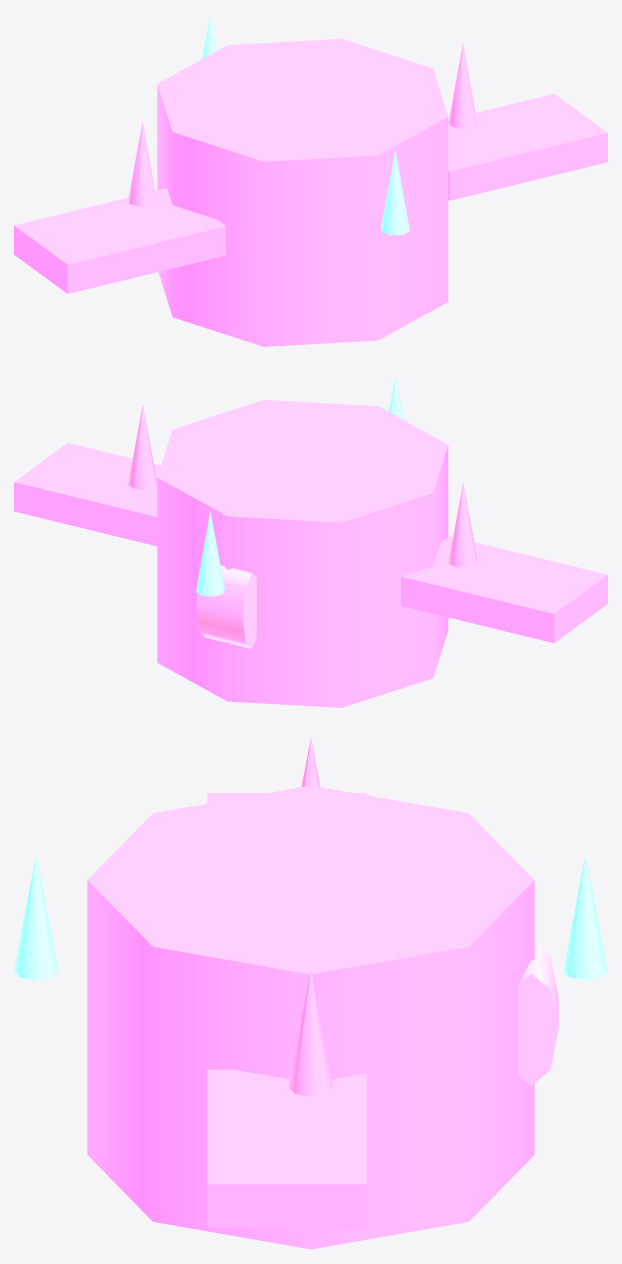
File: region-boss-low.glb
The picture shows the model from 3 angles, top to bottom: view 1: azimuth 30°, elevation 25°; view 2: azimuth 150°, elevation 25°; view 3: azimuth 270°, elevation 25°; orthographic projection. The views are drawn at different scales.
Parts seen in each view (by area): view 1: BOSS_CORE_BODY, LEFT_WING, RIGHT_WING, ENERGY_CROWN_0, ENERGY_CROWN_1, ENERGY_CROWN_2; view 2: BOSS_CORE_BODY, LEFT_WING, RIGHT_WING, BOSS_HEART, ENERGY_CROWN_2, ENERGY_CROWN_0, ENERGY_CROWN_3; view 3: BOSS_CORE_BODY, RIGHT_WING, BOSS_HEART, ENERGY_CROWN_0, ENERGY_CROWN_1, ENERGY_CROWN_3.
Boxes of the visible parts, bbox=[...] form: BOSS_CORE_BODY: bbox=[157, 39, 448, 346]; LEFT_WING: bbox=[14, 188, 225, 293]; RIGHT_WING: bbox=[448, 94, 607, 200]; ENERGY_CROWN_0: bbox=[448, 43, 477, 128]; ENERGY_CROWN_1: bbox=[381, 150, 409, 235]; ENERGY_CROWN_2: bbox=[128, 121, 156, 206]; BOSS_CORE_BODY: bbox=[157, 400, 448, 707]; LEFT_WING: bbox=[401, 536, 607, 642]; RIGHT_WING: bbox=[14, 443, 160, 546]; BOSS_HEART: bbox=[196, 565, 256, 648]; ENERGY_CROWN_2: bbox=[448, 482, 477, 567]; ENERGY_CROWN_0: bbox=[128, 404, 157, 489]; ENERGY_CROWN_3: bbox=[196, 511, 224, 596]; BOSS_CORE_BODY: bbox=[87, 785, 534, 1249]; RIGHT_WING: bbox=[207, 1069, 366, 1227]; BOSS_HEART: bbox=[518, 943, 558, 1086]; ENERGY_CROWN_0: bbox=[288, 970, 333, 1096]; ENERGY_CROWN_1: bbox=[14, 853, 58, 980]; ENERGY_CROWN_3: bbox=[563, 853, 607, 980].
Size of the model in its own units: 5.8 by 2.09 by 3.72.
